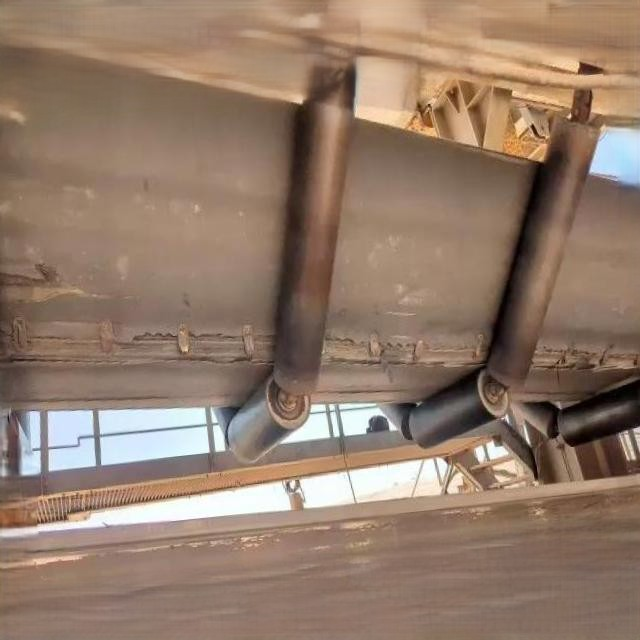Tear: (0, 307, 278, 373), (313, 319, 494, 380), (525, 328, 640, 376)
Wear: (0, 254, 121, 309)
